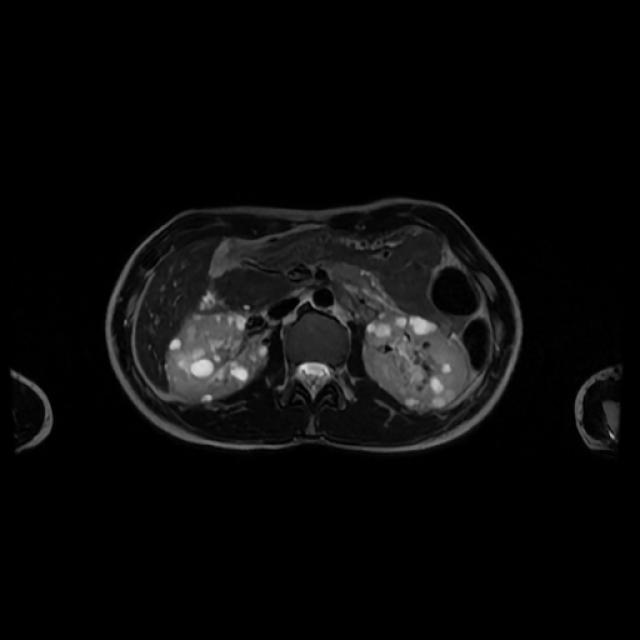sag: (166, 311, 270, 403)
sol: (363, 313, 469, 410)
